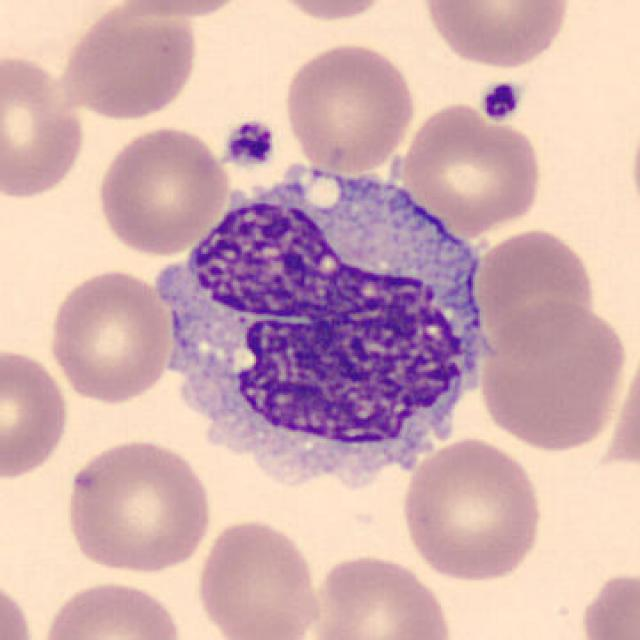Monocyte: (142, 150, 508, 502)
Platelets: (221, 116, 279, 171), (478, 80, 524, 124)
RBC: (475, 298, 629, 453), (398, 434, 548, 585), (61, 434, 215, 576), (398, 100, 546, 237), (93, 121, 231, 258), (281, 39, 418, 174), (44, 264, 174, 406), (61, 2, 202, 123), (471, 226, 599, 358), (192, 516, 323, 640), (302, 550, 455, 640), (0, 48, 89, 202), (418, 0, 574, 71), (0, 344, 71, 481), (37, 576, 186, 640), (576, 566, 638, 640), (261, 0, 400, 25), (106, 0, 260, 21), (0, 571, 41, 640)
